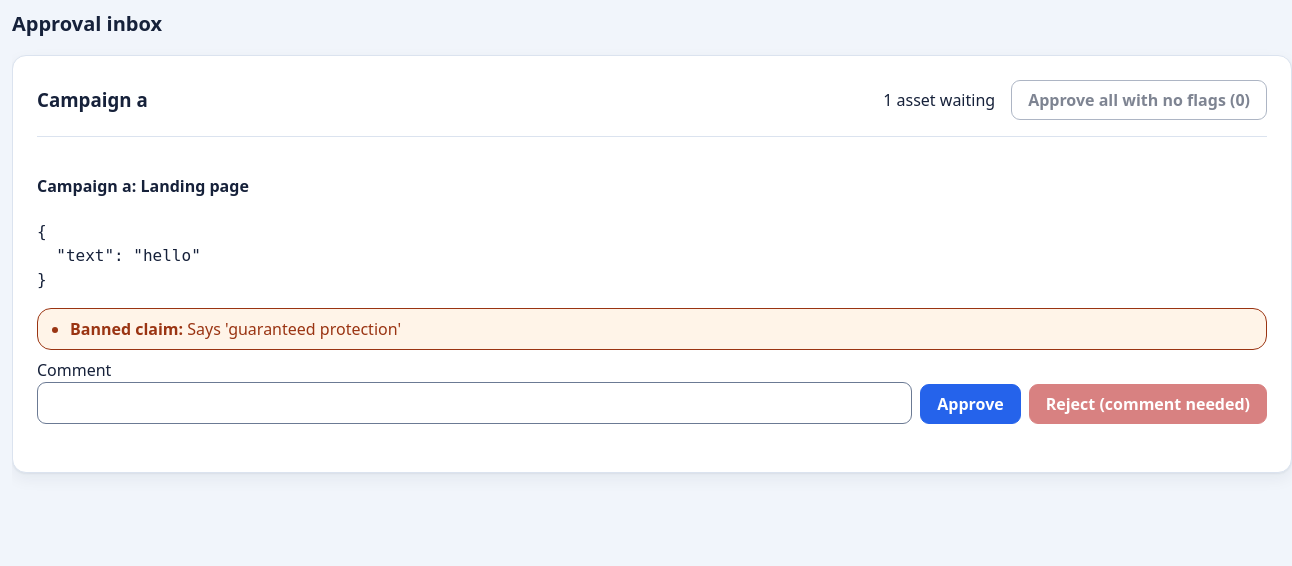
Test: rejecting needs a comment, goes to the writer, and the inbox says so
Expected: the button "Reject (comment needed)" is shown, [1029, 384, 1267, 424]
Expected: the button "Reject (comment needed)" is disabled, [1029, 384, 1267, 424]
Type "Drop the hype" into the field labelled "Comment" at coordinates (475, 403), box [37, 382, 912, 424]
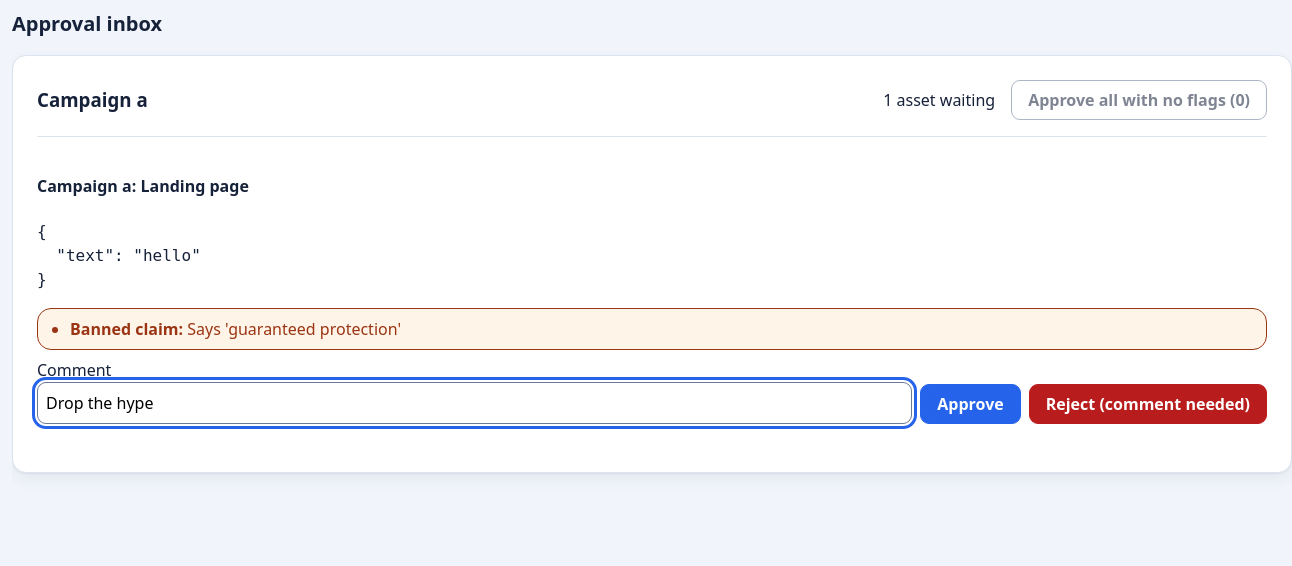
Expected: the button "Reject (comment needed)" is enabled
Click the button "Reject (comment needed)" at coordinates (1148, 404), box [1029, 384, 1267, 424]
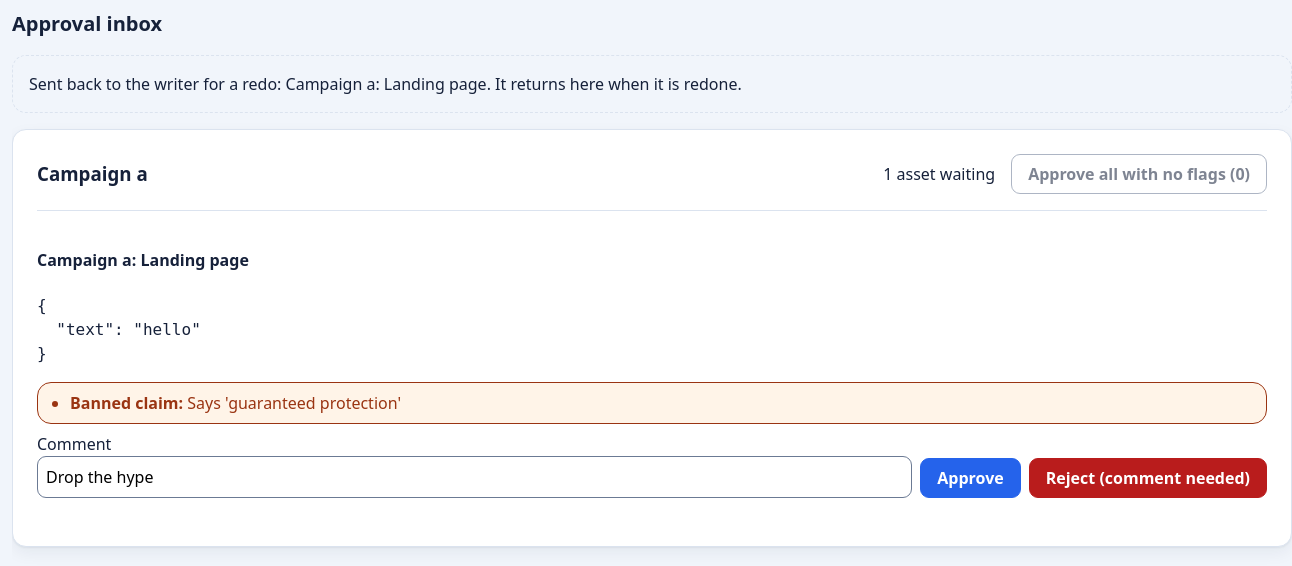
Expected: the message with test id "sent-back" shows "Sent back to the writer for a redo: Campaign a: Landing page", [12, 55, 1291, 113]
